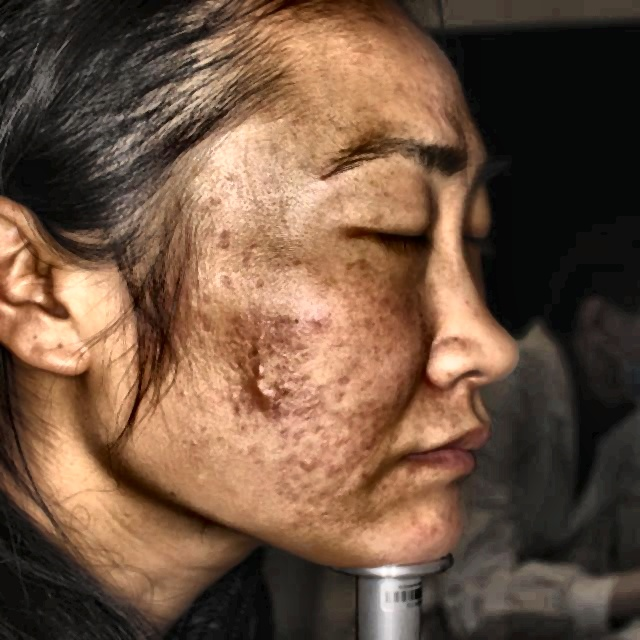comedone: (238, 374, 282, 420), (246, 353, 273, 374)
